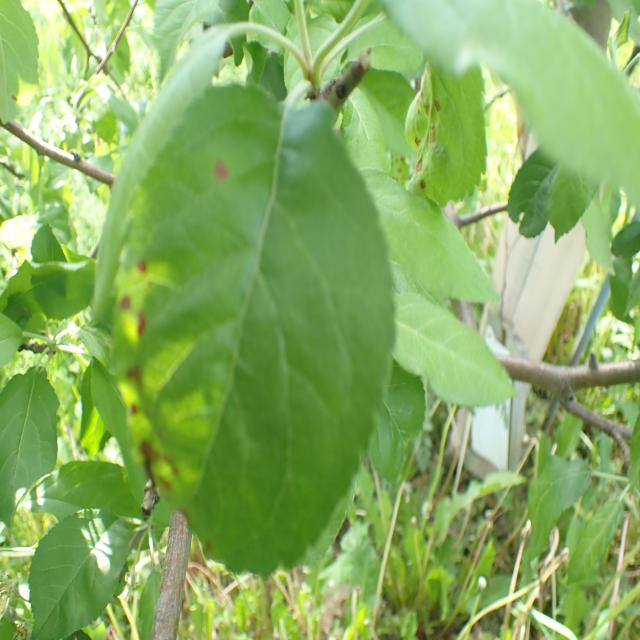Black Rot: (198, 151, 239, 208), (124, 244, 160, 298)
